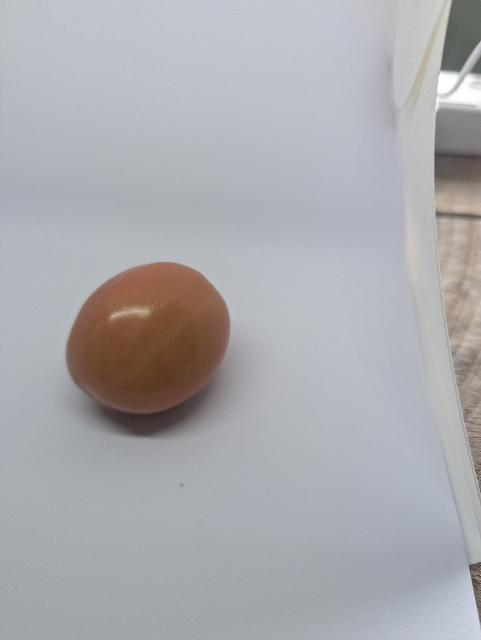turning: (64, 255, 254, 425)
